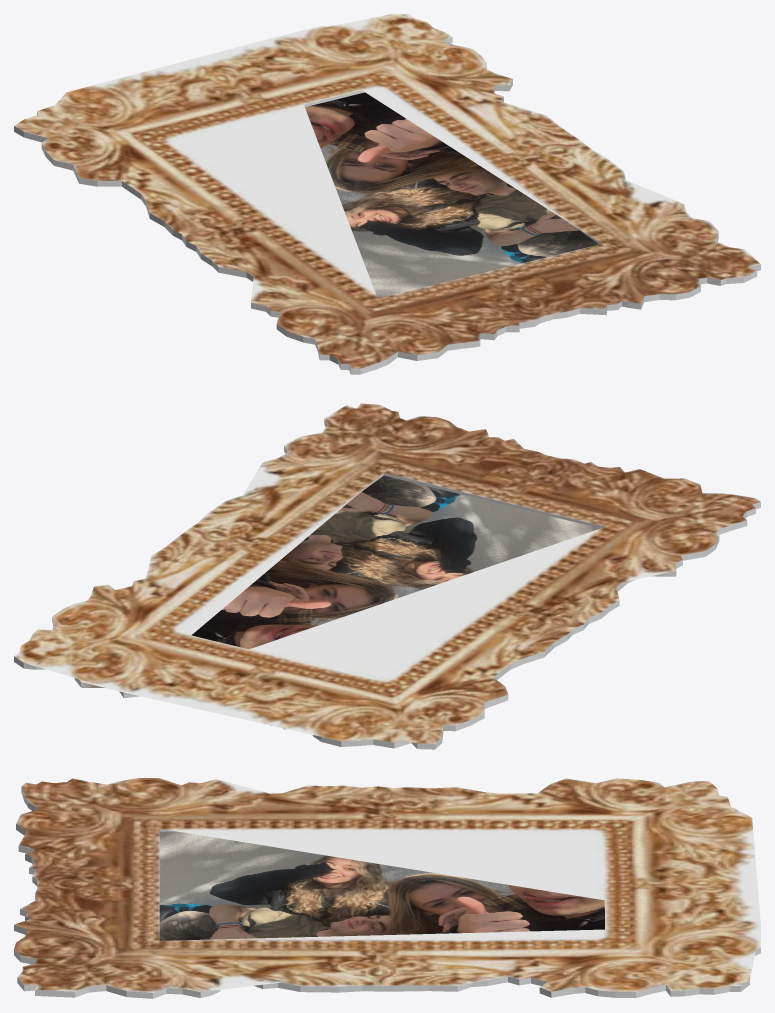
File: Cuadro Mitsuri.fbx
3 renders of one model, top to bottom at view 1: azimuth 30°, elevation 25°; view 2: azimuth 150°, elevation 25°; view 3: azimuth 270°, elevation 25°, orthographic. The views are drawn at different scales.
Parts seen in each view (by area): view 1: Cube.001; view 2: Cube.001; view 3: Cube.001.
Boxes of the visible parts, x1=… form: Cube.001: x1=14, y1=14, x2=760, y2=374; Cube.001: x1=14, y1=403, x2=760, y2=749; Cube.001: x1=14, y1=778, x2=760, y2=998.
Size of the model in its own units: 46.26 by 1.79 by 68.
Materials: 2 (2 with a texture image).
